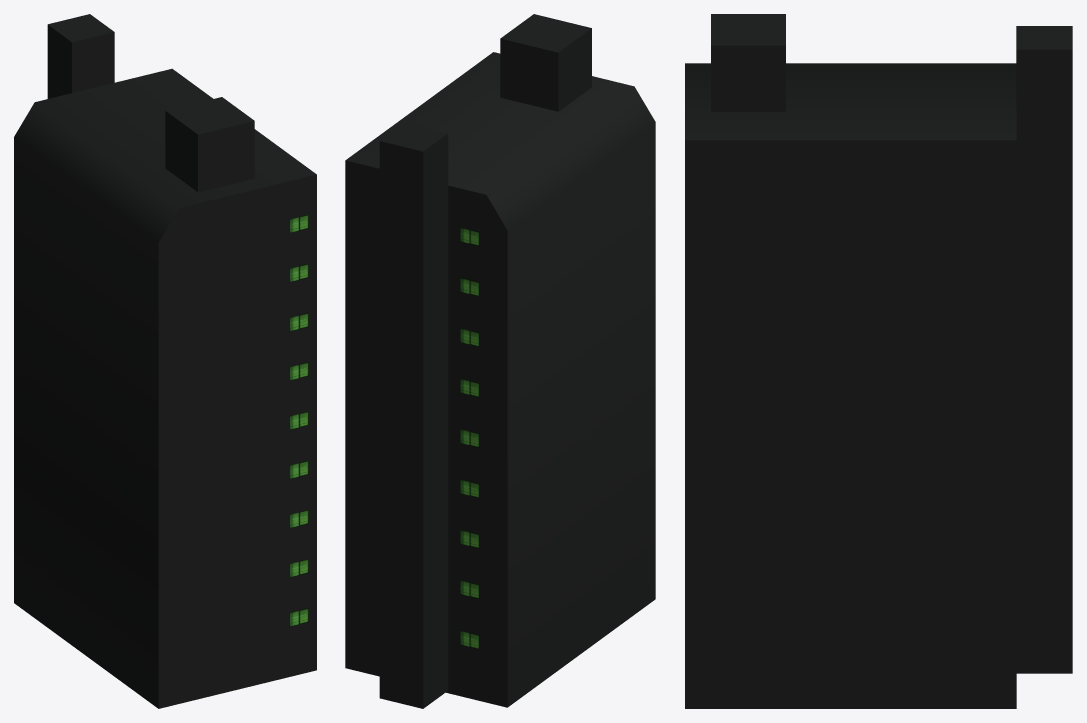
The model's file is AMB_MANSYON_L.glb.
The picture shows the model from 3 angles, left to right: view 1: azimuth 30°, elevation 25°; view 2: azimuth 150°, elevation 25°; view 3: azimuth 270°, elevation 25°; orthographic projection. The views are drawn at different scales.
Visible parts, largest first — view 1: BASE; view 2: BASE; view 3: BASE.
Boxes of the visible parts, box(x1,y1,x2,y2) form: BASE: box(14, 14, 316, 708); BASE: box(345, 14, 655, 708); BASE: box(685, 14, 1072, 708).
Size of the model in its own units: 55.89 by 187 by 104.
Materials: 2 (2 with a texture image).
